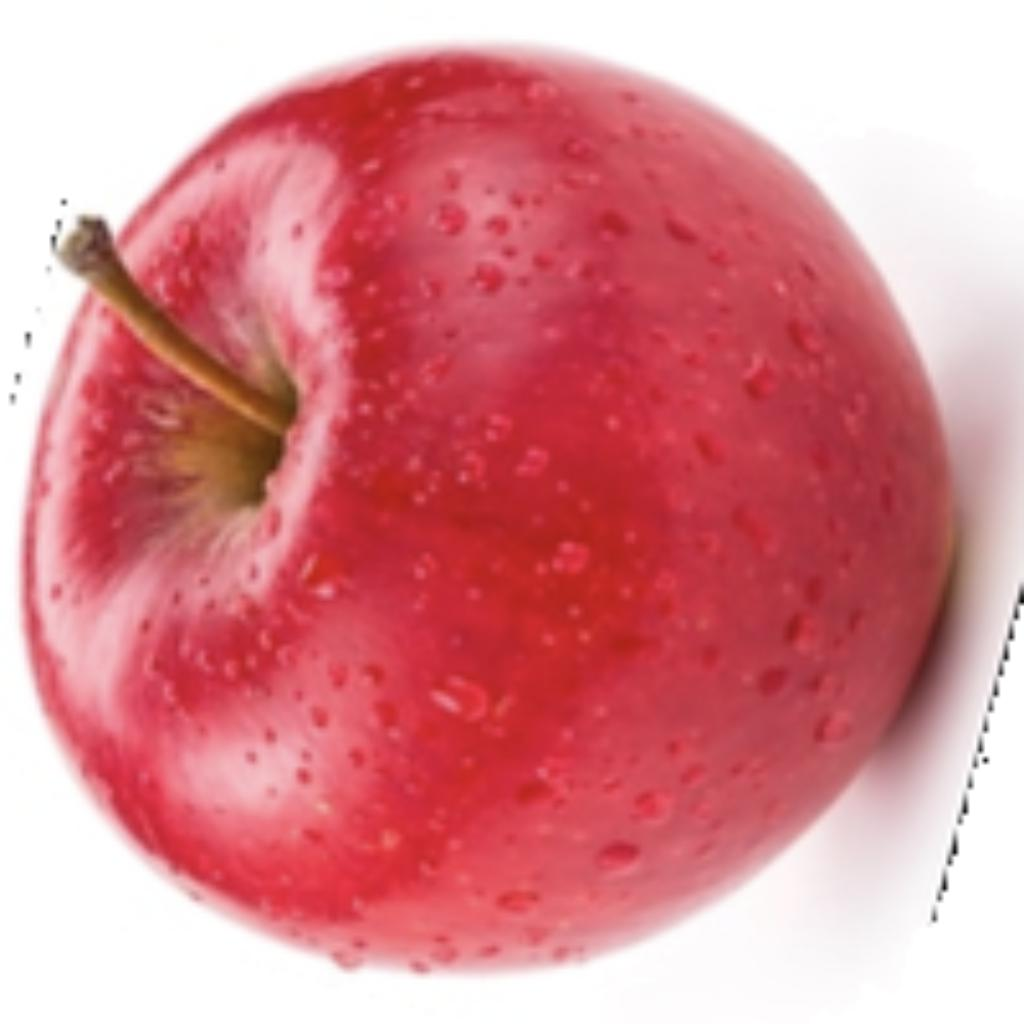apple: (10, 31, 1019, 983)
